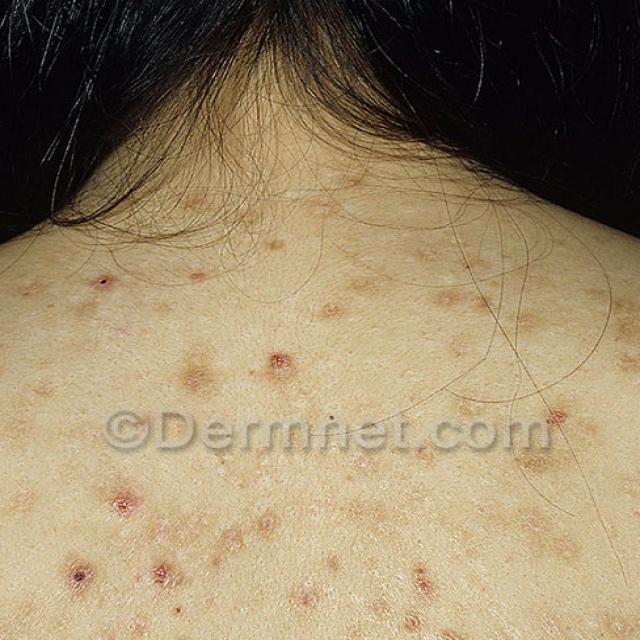Acne: (443, 237, 599, 461), (68, 244, 232, 370), (303, 96, 445, 220), (399, 518, 526, 640), (269, 220, 372, 327), (608, 272, 640, 400), (102, 471, 169, 526), (41, 560, 116, 602), (139, 549, 183, 593), (0, 318, 20, 402), (271, 335, 296, 381)
